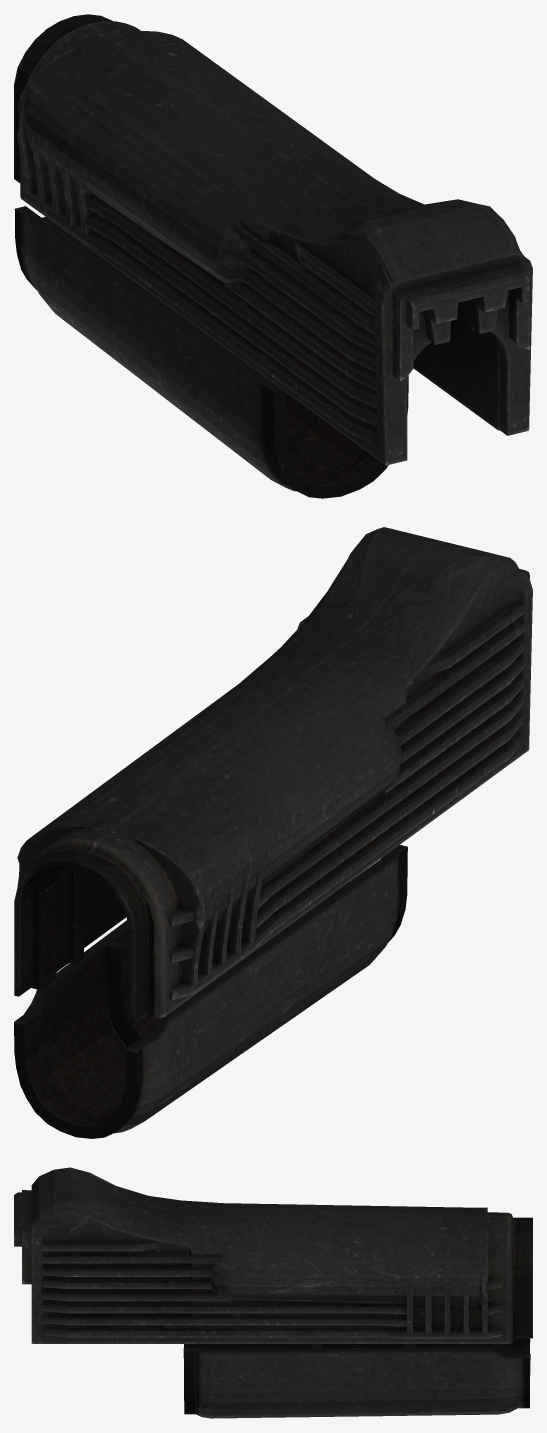
3 renders of one model, top to bottom at view 1: azimuth 30°, elevation 25°; view 2: azimuth 150°, elevation 25°; view 3: azimuth 270°, elevation 25°, orthographic. The views are drawn at different scales.
Visible parts, largest first — view 1: TW_5648b1504bdc2d9d488b4584_PZ_Import; view 2: TW_5648b1504bdc2d9d488b4584_PZ_Import; view 3: TW_5648b1504bdc2d9d488b4584_PZ_Import.
Boxes of the visible parts, left/top/right/bottom form: TW_5648b1504bdc2d9d488b4584_PZ_Import: left=14, top=14, right=532, bottom=498; TW_5648b1504bdc2d9d488b4584_PZ_Import: left=14, top=527, right=532, bottom=1138; TW_5648b1504bdc2d9d488b4584_PZ_Import: left=14, top=1167, right=532, bottom=1418.
Bounding box in the file's own units: 0.0257 × 0.0951 × 0.0461.
1 material, 1 textured.
